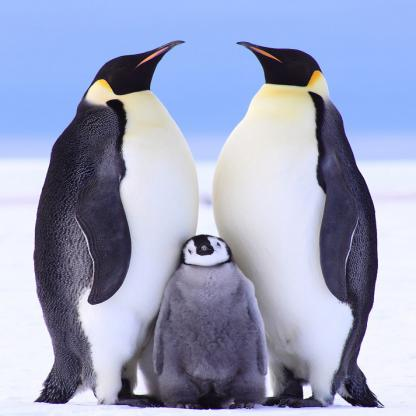Penguin: (24, 32, 207, 415), (210, 41, 388, 411), (134, 224, 289, 408)
